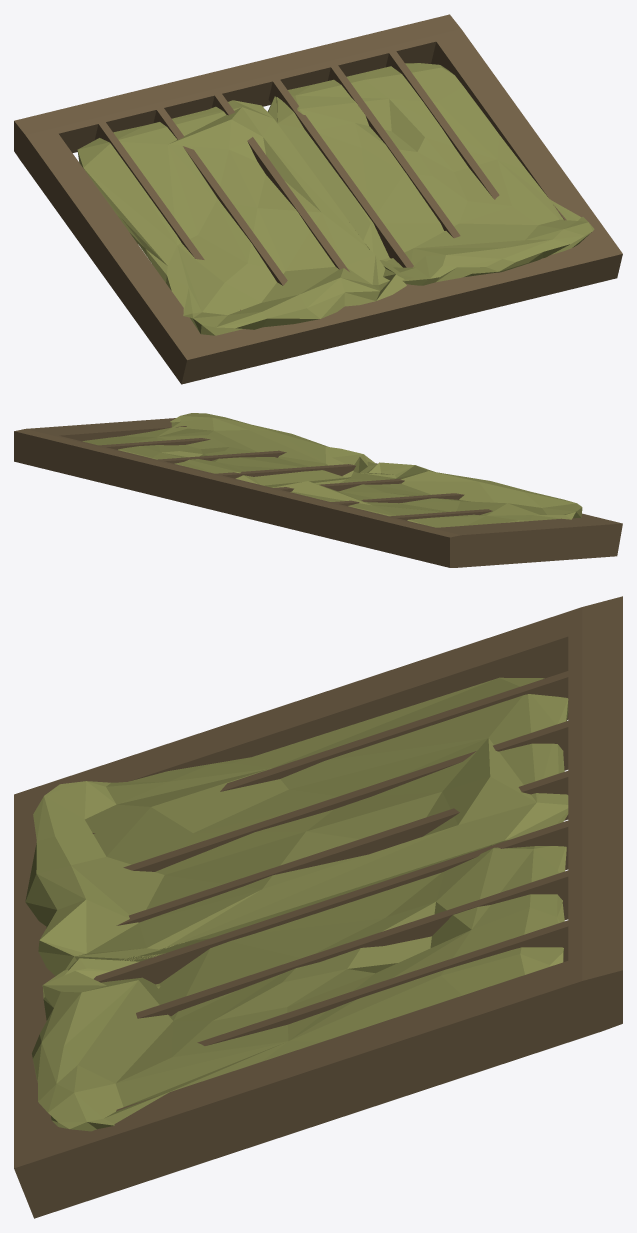
Rendered from greek_awning_1.fbx.
3 views of the same model, one above another, from view 1: azimuth 30°, elevation 25°; view 2: azimuth 150°, elevation 25°; view 3: azimuth 270°, elevation 25° (orthographic). The views are drawn at different scales.
Visible parts, largest first — view 1: Icosphere.004, Cube.044; view 2: Cube.044, Icosphere.004; view 3: Icosphere.004, Cube.044.
Boxes of the visible parts, x1=… form: Icosphere.004: x1=77, y1=63, x2=594, y2=335; Cube.044: x1=14, y1=14, x2=622, y2=384; Cube.044: x1=14, y1=418, x2=622, y2=567; Icosphere.004: x1=82, y1=413, x2=582, y2=527; Icosphere.004: x1=25, y1=677, x2=568, y2=1131; Cube.044: x1=14, y1=596, x2=622, y2=1218.
Size of the model in its own units: 300 by 92.93 by 206.
